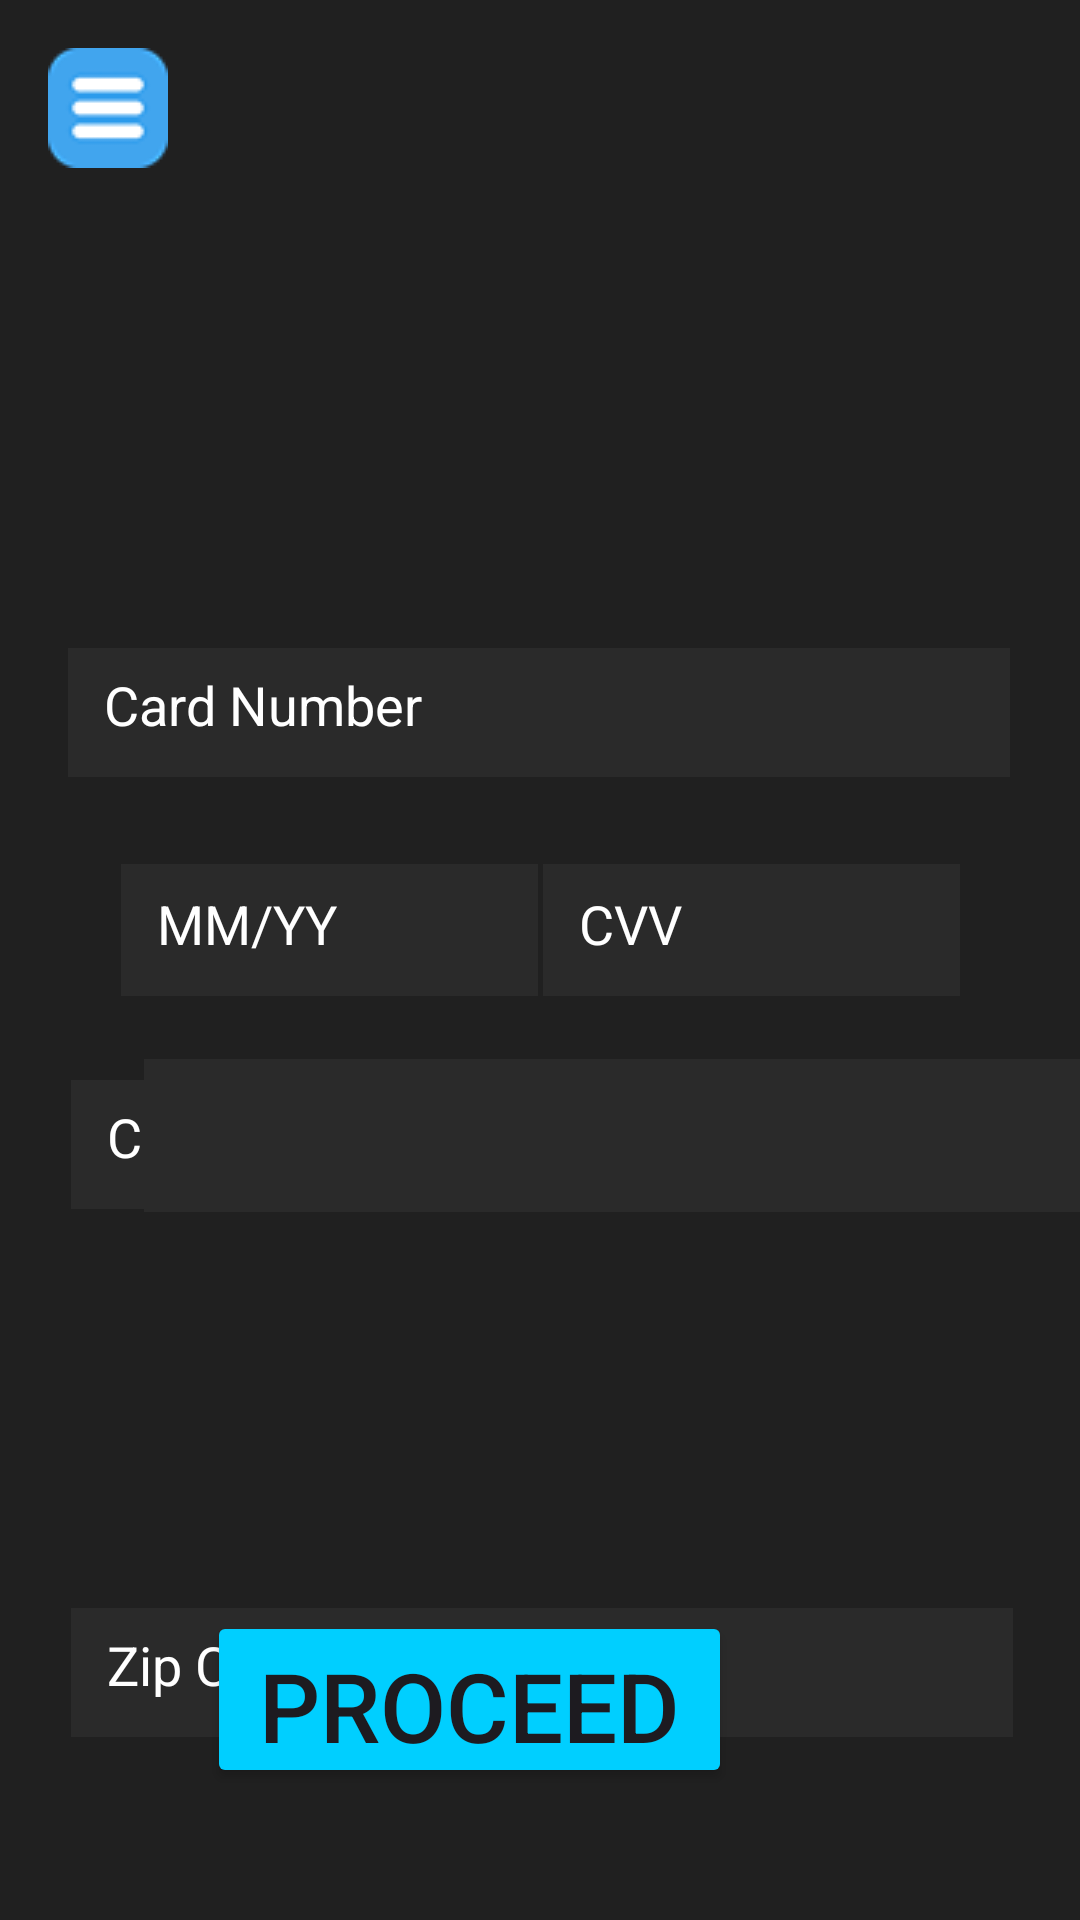

Locate icon controls on the screen. Image size 1080 x 1920, boxes as (left=x1, top=y1, right=x2, bottom=y2).
Menu: (left=48, top=48, right=168, bottom=168)
